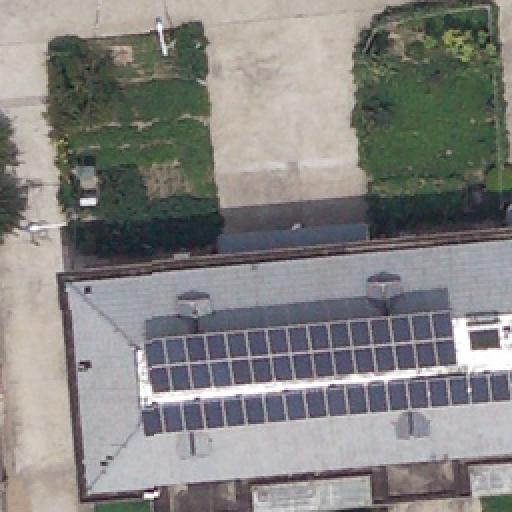solar-panel: (146, 311, 458, 393), (145, 368, 511, 436)
